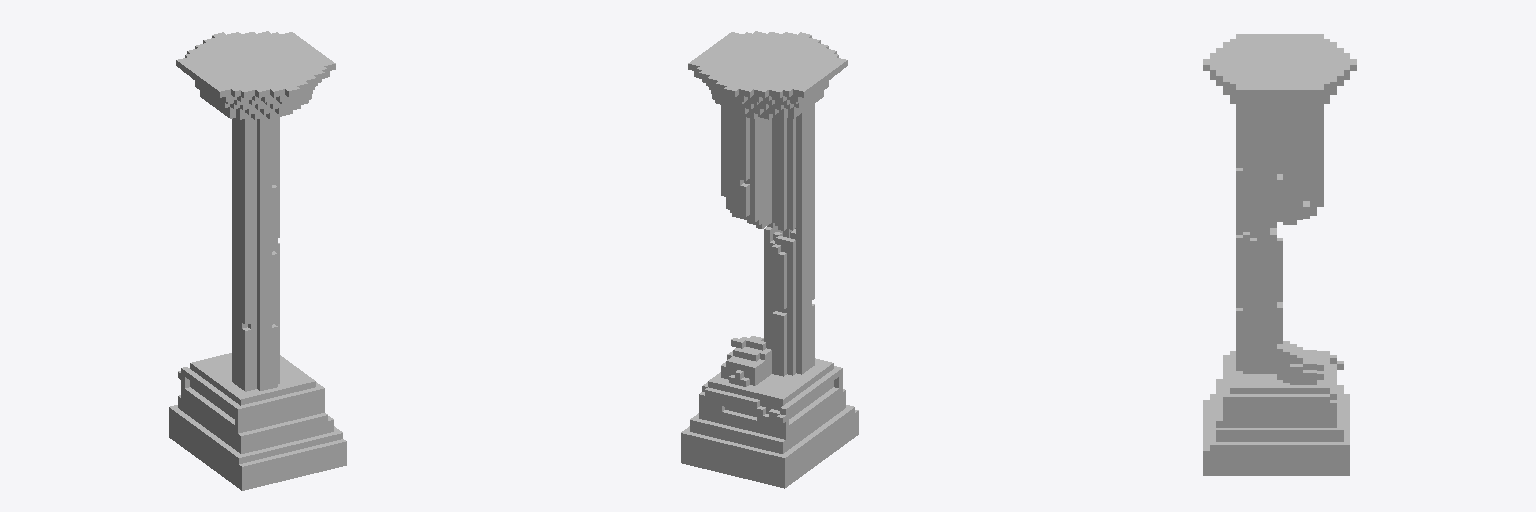
The model's file is destroy_pillar-0-destroy_pilalr.obj.
The picture shows the model from 3 angles: view 1: azimuth 30°, elevation 25°; view 2: azimuth 150°, elevation 25°; view 3: azimuth 270°, elevation 25°; orthographic projection.
Parts seen in each view (by area): view 1: destroy_pilalr; view 2: destroy_pilalr; view 3: destroy_pilalr.
Part boxes in pixels (x1,y1,x2,y2): destroy_pilalr: (169, 31, 346, 490); destroy_pilalr: (681, 31, 858, 488); destroy_pilalr: (1203, 34, 1356, 475).
Bounding box in the file's own units: 2 × 6.4 × 2.3.